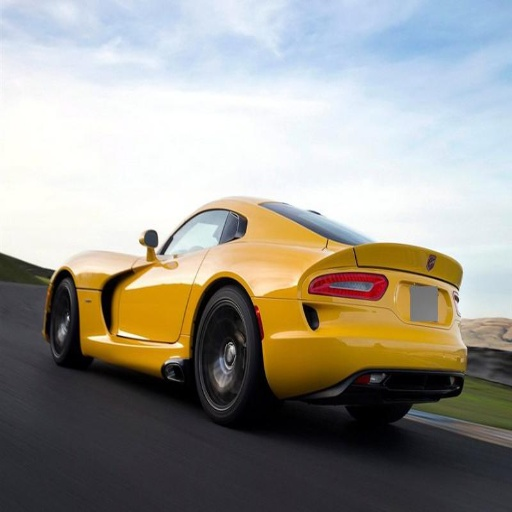back_bumper: (265, 305, 468, 394)
back_glass: (266, 204, 358, 240)
back_left_light: (309, 271, 369, 298)
trunk: (346, 246, 454, 335)
